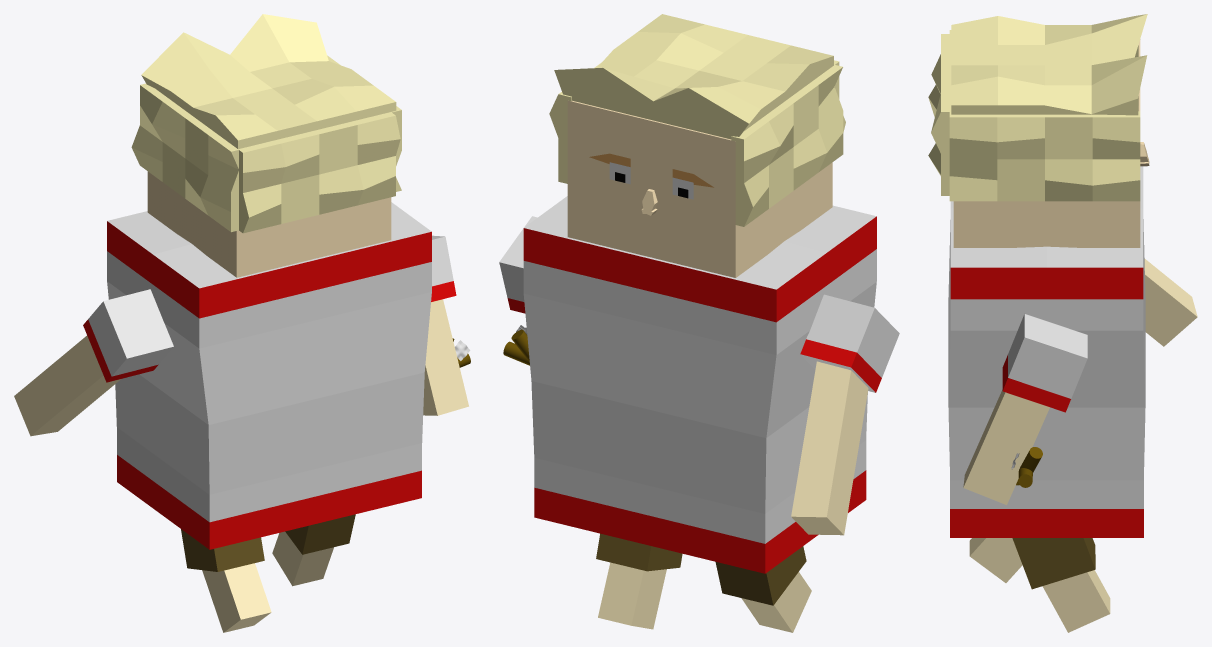
File: kid.fbx
3 views of the same model, side by side, from view 1: azimuth 30°, elevation 25°; view 2: azimuth 150°, elevation 25°; view 3: azimuth 270°, elevation 25° (orthographic). The views are drawn at different scales.
Parts seen in each view (by area): view 1: body, topHair, backHead, head, rightHair, leftArm, leftHand, rightHand, leftHand1, leftLeg, leftHand2, rightLeg (+1 smaller); view 2: body, head, topHair, rightHair, leftHand, leftArm, leftHand2, leftLeg, rightLeg, leftHand1, rightArm, leftHair (+1 smaller); view 3: body, topHair, leftHair, head, rightArm, rightHand, rightLeg, leftHand, leftHand2, backHead, leftHand1, slingshot.
Part boxes in pixels (x1,y1,x2,y2): body: [107, 202, 431, 549]; topHair: [141, 14, 396, 149]; backHead: [238, 112, 400, 233]; head: [147, 171, 391, 277]; rightHair: [131, 83, 242, 232]; leftArm: [83, 289, 173, 382]; leftHand: [14, 335, 120, 436]; rightHand: [423, 299, 468, 415]; leftHand1: [202, 563, 271, 632]; leftLeg: [181, 529, 264, 571]; leftHand2: [272, 531, 333, 586]; rightLeg: [285, 514, 355, 554]; body: [523, 196, 876, 573]; head: [567, 100, 832, 277]; topHair: [554, 14, 833, 139]; rightHair: [731, 65, 843, 226]; leftHand: [791, 361, 868, 535]; leftArm: [800, 294, 899, 392]; leftHand2: [598, 562, 666, 629]; leftLeg: [715, 546, 806, 605]; rightLeg: [596, 533, 682, 571]; leftHand1: [741, 572, 811, 632]; rightArm: [499, 216, 537, 313]; leftHair: [549, 62, 601, 183]; body: [948, 166, 1145, 537]; topHair: [951, 14, 1147, 115]; leftHair: [949, 111, 1140, 201]; head: [953, 40, 1149, 247]; rightArm: [1002, 314, 1087, 412]; rightHand: [963, 389, 1049, 504]; rightLeg: [1012, 538, 1095, 589]; leftHand: [1144, 259, 1197, 346]; leftHand2: [1042, 570, 1110, 632]; backHead: [928, 34, 951, 195]; leftHand1: [969, 538, 1022, 582]; slingshot: [1016, 447, 1042, 487].
Bounding box in the file's own units: 1.28 × 1.77 × 0.7622.
